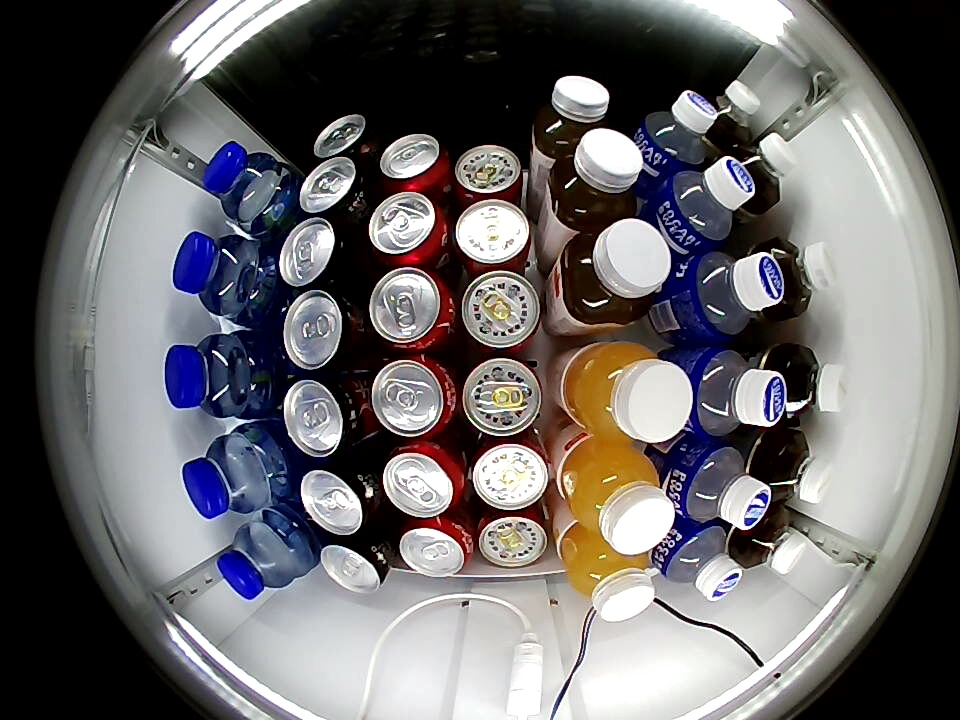baokuangli: (680, 249, 786, 342), (685, 346, 788, 438), (657, 156, 756, 250), (671, 440, 772, 531), (655, 519, 743, 602), (636, 90, 717, 173)
chapai: (553, 218, 672, 330), (548, 128, 643, 231), (532, 75, 611, 161)
kele: (368, 267, 454, 352), (370, 355, 457, 438), (382, 440, 464, 519), (368, 192, 446, 266), (398, 517, 473, 578), (378, 133, 450, 191)
lingdukele: (282, 373, 366, 457), (280, 289, 364, 370), (299, 457, 381, 535), (277, 217, 360, 289), (298, 157, 371, 220), (319, 533, 393, 594), (312, 114, 375, 163)
maidong: (181, 429, 279, 521), (173, 231, 264, 319), (215, 518, 309, 601), (164, 333, 255, 418), (201, 142, 287, 225)
wangzainiunai: (458, 270, 543, 352), (460, 357, 544, 437), (469, 431, 550, 511), (452, 199, 535, 277), (475, 503, 550, 569), (452, 144, 525, 207)
weic: (557, 342, 695, 443), (556, 438, 674, 555), (558, 521, 656, 621)
wulongcha: (761, 236, 837, 317), (774, 344, 850, 421), (761, 428, 835, 506), (742, 506, 807, 574), (734, 132, 796, 201), (704, 81, 761, 147)
